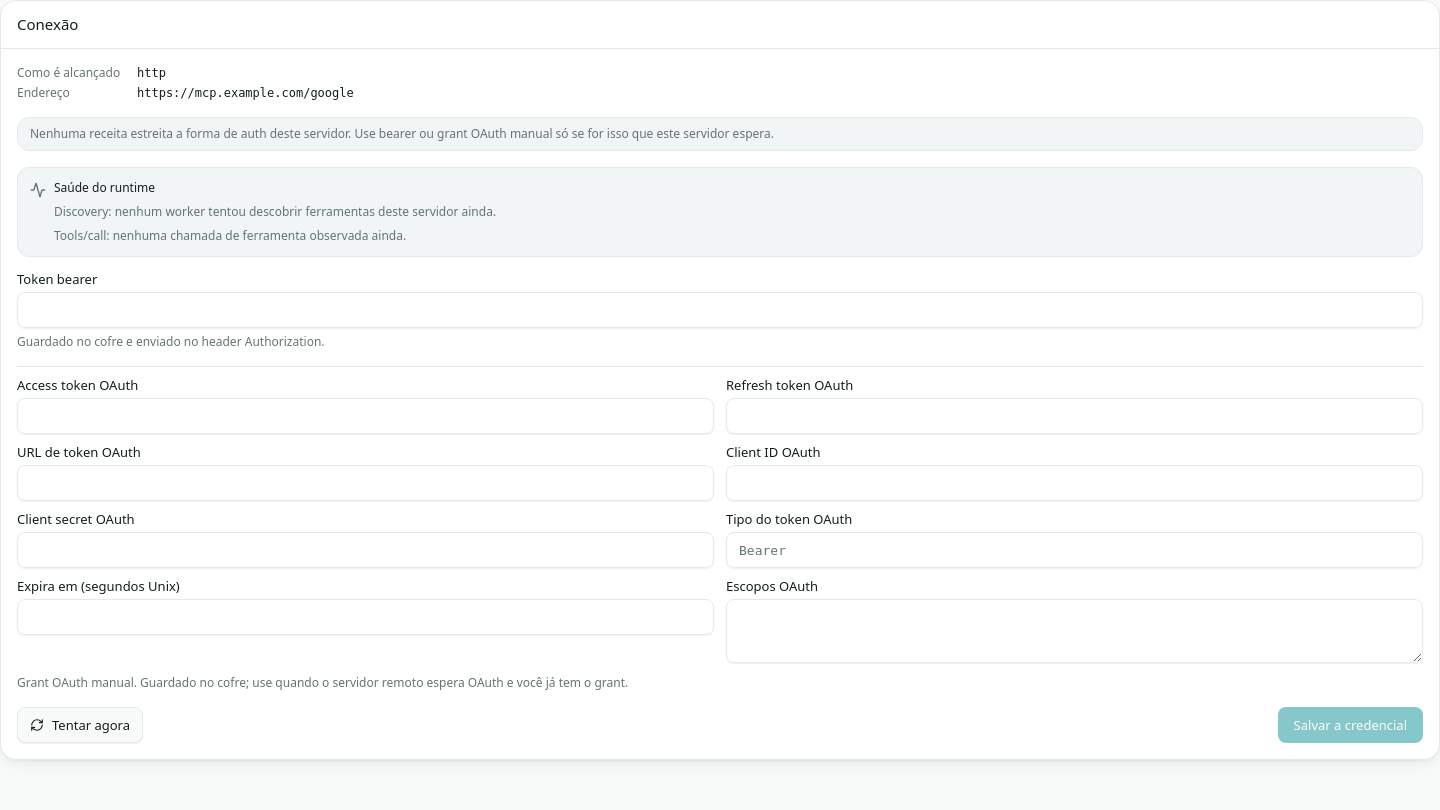
the MCP connection panel › does not choose between bearer and OAuth on behalf of the operator
In the password field labelled "Token bearer": (720, 310) [17,292,1423,328], type "bearer"
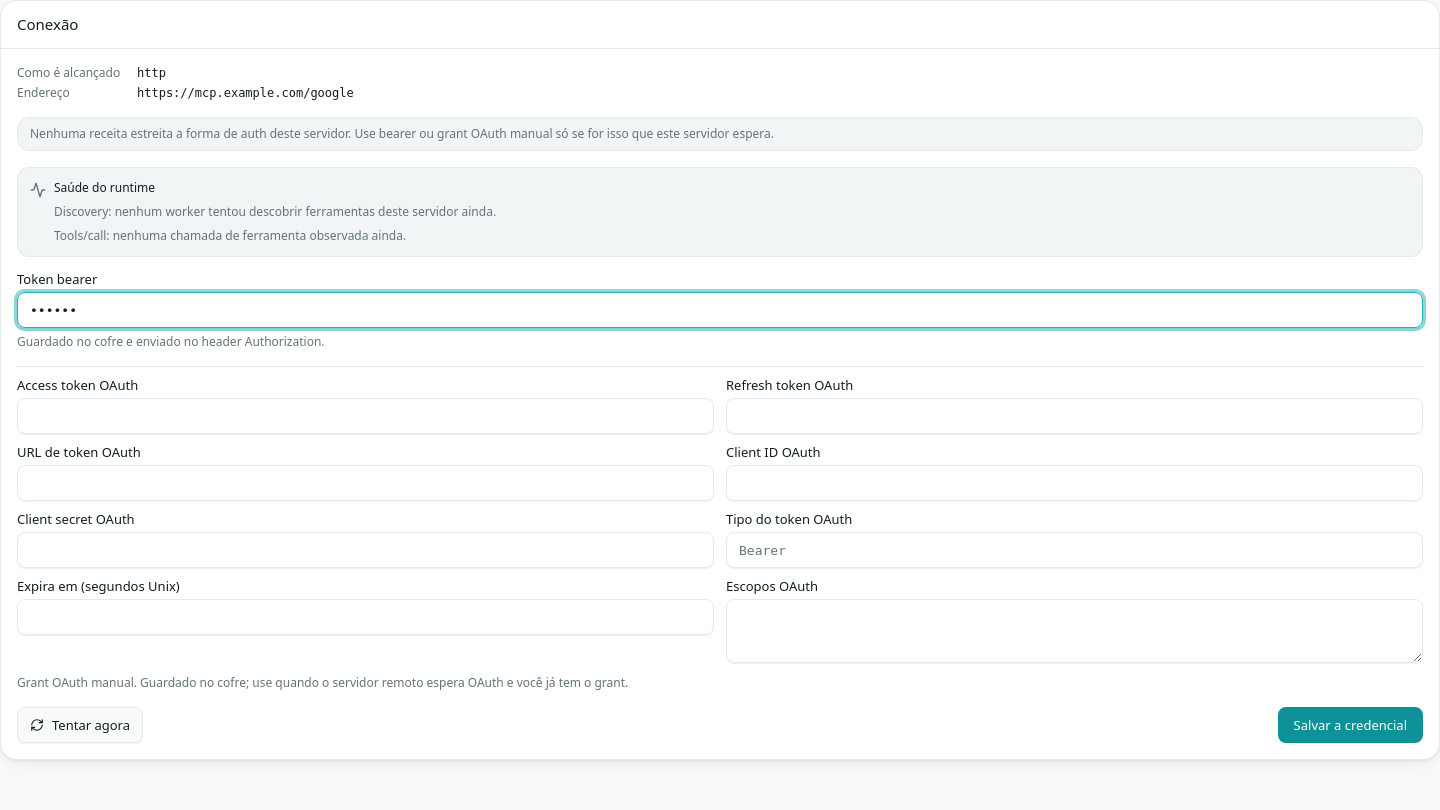
In the password field labelled "Access token OAuth": (366, 416) [17,398,714,434], type "access"
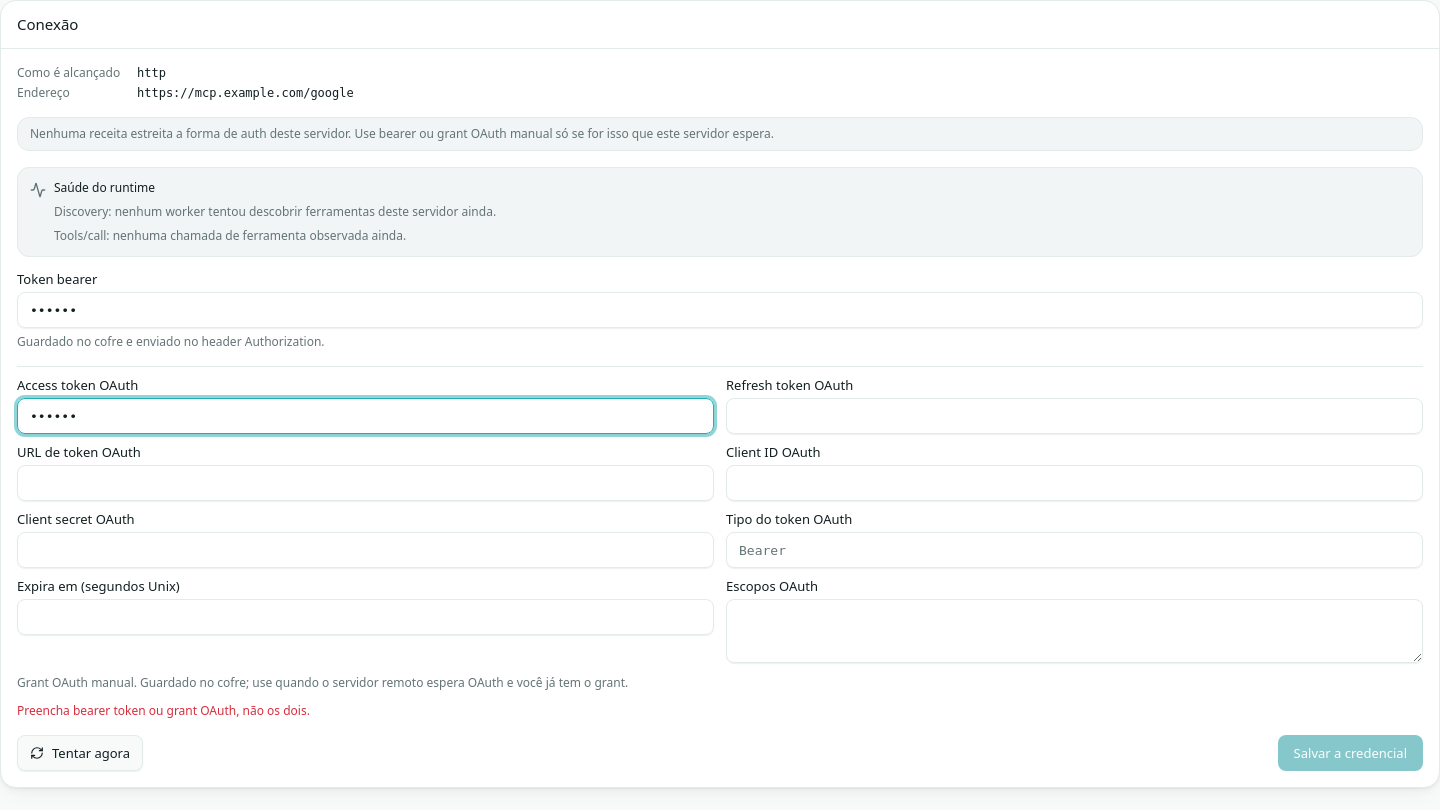
expect the text "Preencha bearer token ou grant OAuth, não os dois." is shown: met, box [17,702,310,719]
expect the button "Salvar a credencial" is disabled: met, box [1278,735,1423,771]
